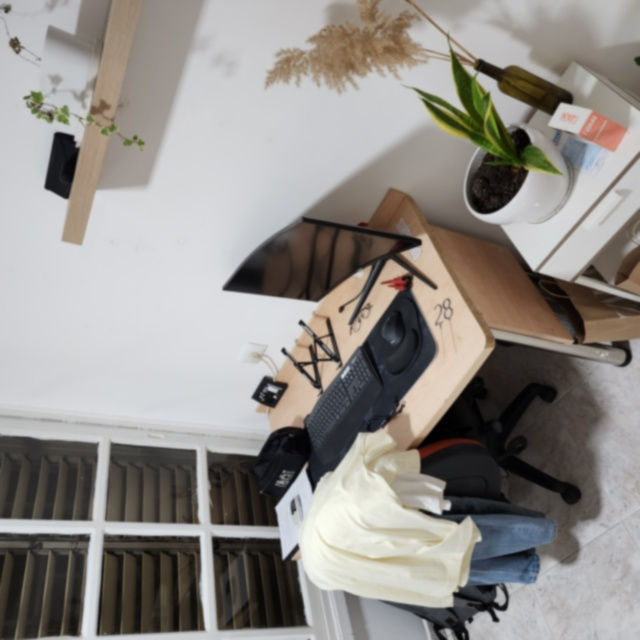glasses: (347, 303, 377, 334)
